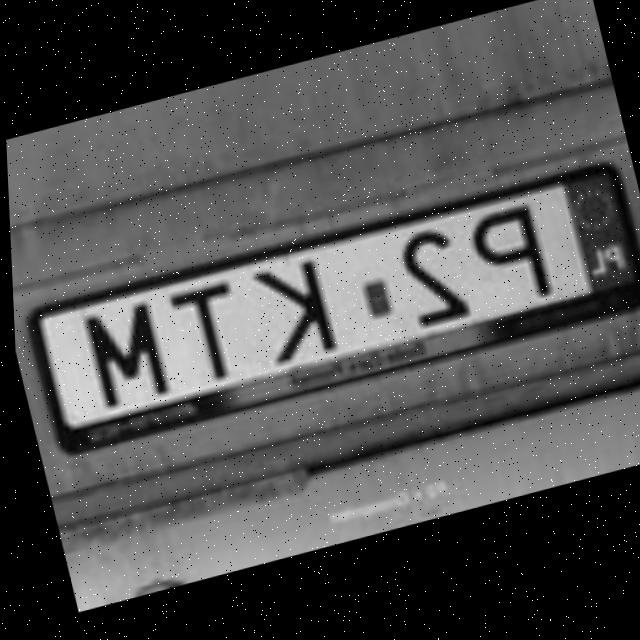license-plates: (39, 169, 639, 426)
